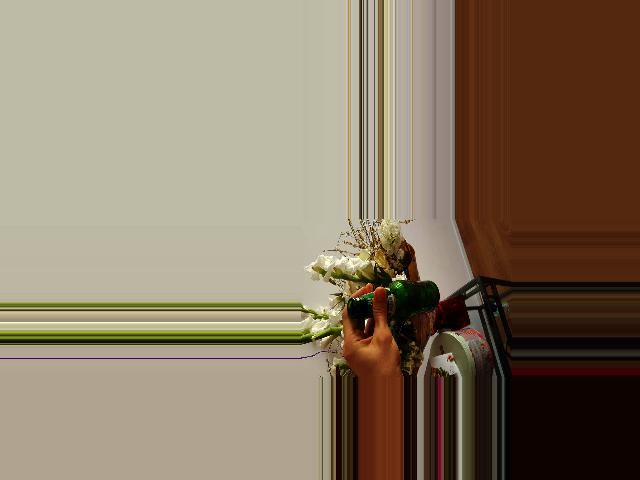beer: (348, 280, 440, 321)
